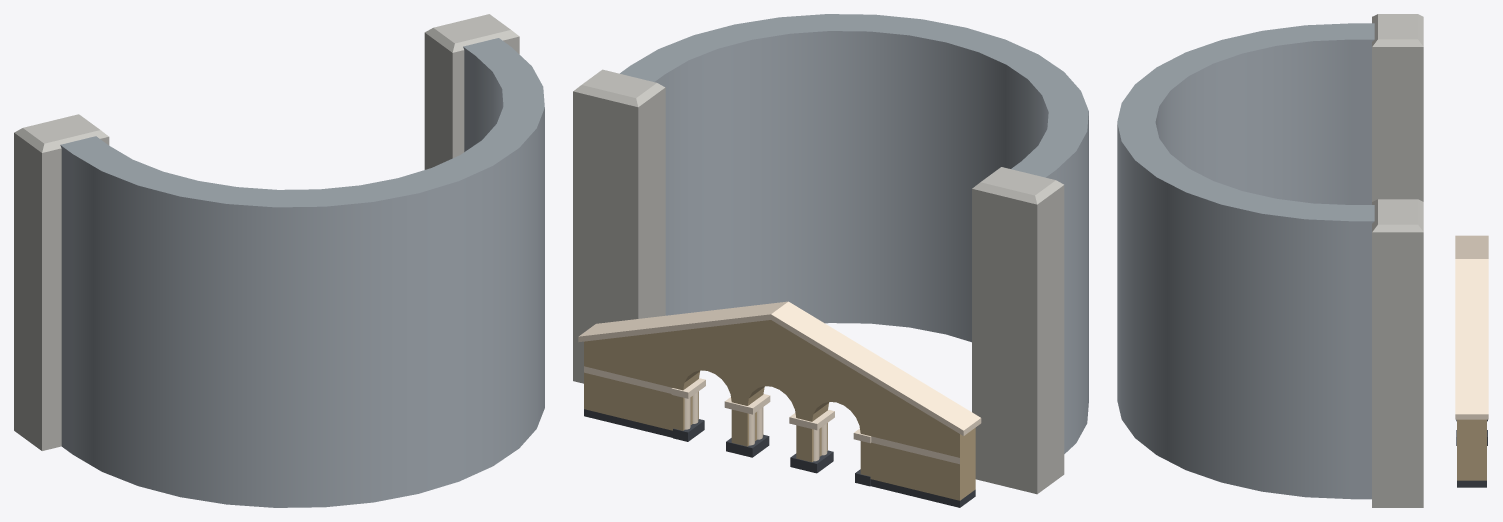
Rendered from hou-waterwall.glb.
3 views of the same model, side by side, from view 1: azimuth 30°, elevation 25°; view 2: azimuth 150°, elevation 25°; view 3: azimuth 270°, elevation 25° (orthographic). The views are drawn at different scales.
Visible parts, largest first — view 1: Gerald D. Hines Waterwall; view 2: Gerald D. Hines Waterwall; view 3: Gerald D. Hines Waterwall.
Part boxes in pixels (x1,y1,x2,y2): Gerald D. Hines Waterwall: (14, 14, 544, 507); Gerald D. Hines Waterwall: (573, 14, 1088, 507); Gerald D. Hines Waterwall: (1117, 14, 1488, 507).
Bounding box in the file's own units: 30.6 × 18.6 × 22.3.
